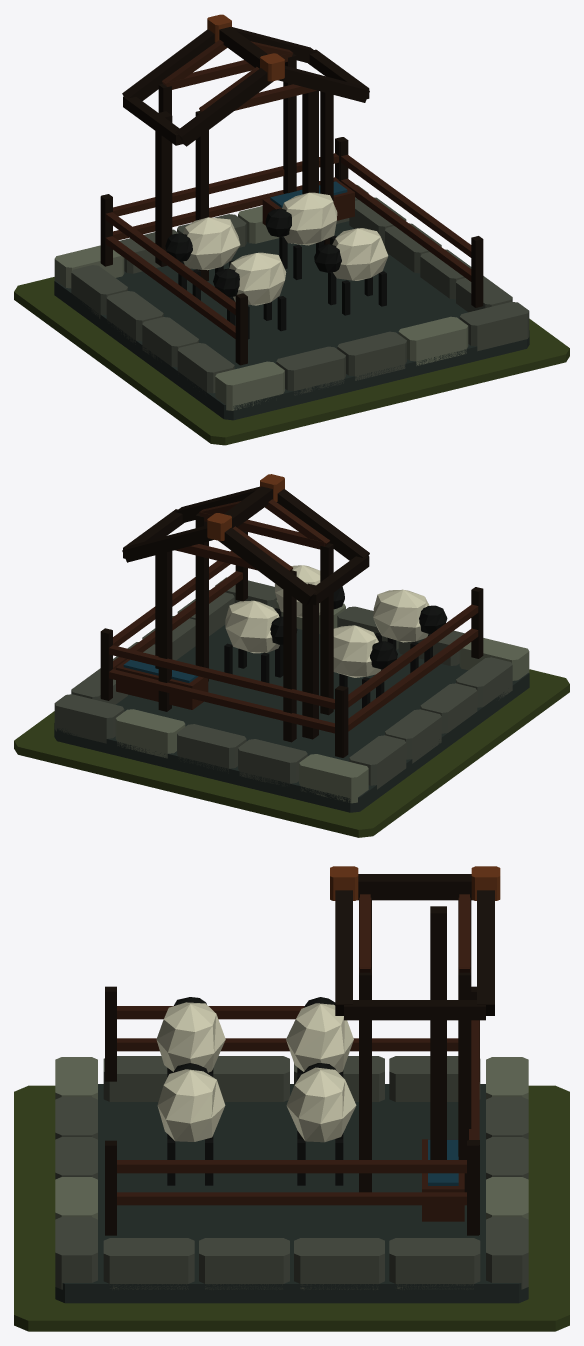
Rendered from pasture_t4.glb.
3 renders of one model, top to bottom at view 1: azimuth 30°, elevation 25°; view 2: azimuth 150°, elevation 25°; view 3: azimuth 270°, elevation 25°, orthographic. The views are drawn at different scales.
Visible parts, largest first — view 1: MMR | pasture | T04 Architecture.001, MMR | pasture | Tier 04 Ground.001; view 2: MMR | pasture | T04 Architecture.001, MMR | pasture | Tier 04 Ground.001; view 3: MMR | pasture | T04 Architecture.001, MMR | pasture | Tier 04 Ground.001.
Boxes of the visible parts, x1,y1,x2,y2 form: MMR | pasture | T04 Architecture.001: (54,14,529,420); MMR | pasture | Tier 04 Ground.001: (14,277,569,445); MMR | pasture | T04 Architecture.001: (54,474,529,812); MMR | pasture | Tier 04 Ground.001: (14,669,569,837); MMR | pasture | T04 Architecture.001: (55,866,528,1303); MMR | pasture | Tier 04 Ground.001: (14,1085,569,1331).
Bounding box in the file's own units: 2.35 × 1.59 × 2.35.
1 material, 1 textured.
